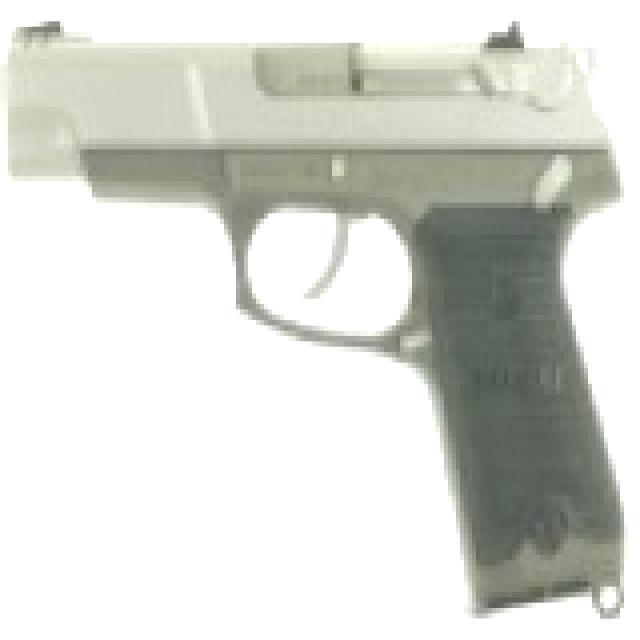pistol: (20, 5, 640, 608)
